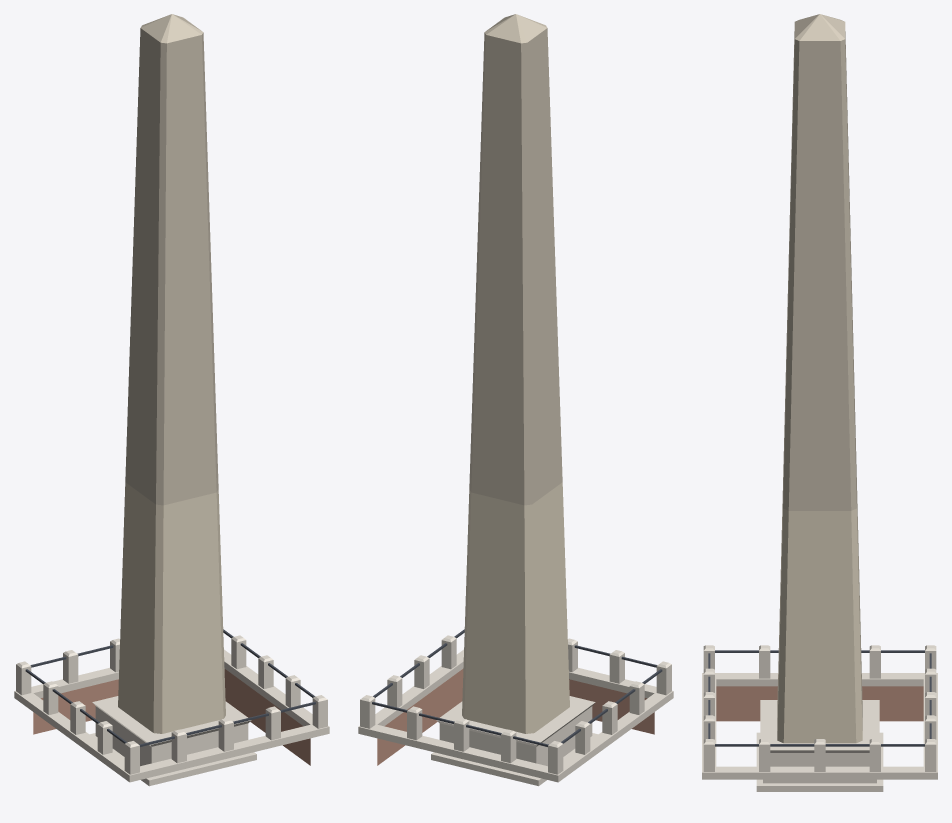
The model's file is istanbul-walled-obelisk.glb.
3 views of the same model, side by side, from view 1: azimuth 30°, elevation 25°; view 2: azimuth 150°, elevation 25°; view 3: azimuth 270°, elevation 25° (orthographic). The views are drawn at different scales.
Visible parts, largest first — view 1: Walled Obelisk; view 2: Walled Obelisk; view 3: Walled Obelisk.
Part boxes in pixels (x1,y1,x2,y2): Walled Obelisk: (14, 14, 329, 786); Walled Obelisk: (358, 14, 673, 786); Walled Obelisk: (702, 14, 937, 791).
Bounding box in the file's own units: 9.1 × 32 × 9.1.
